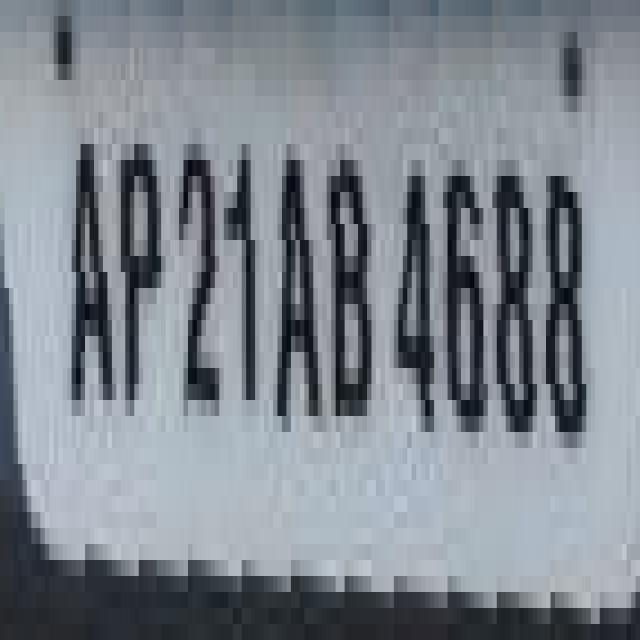license_plate: (22, 0, 640, 592)
